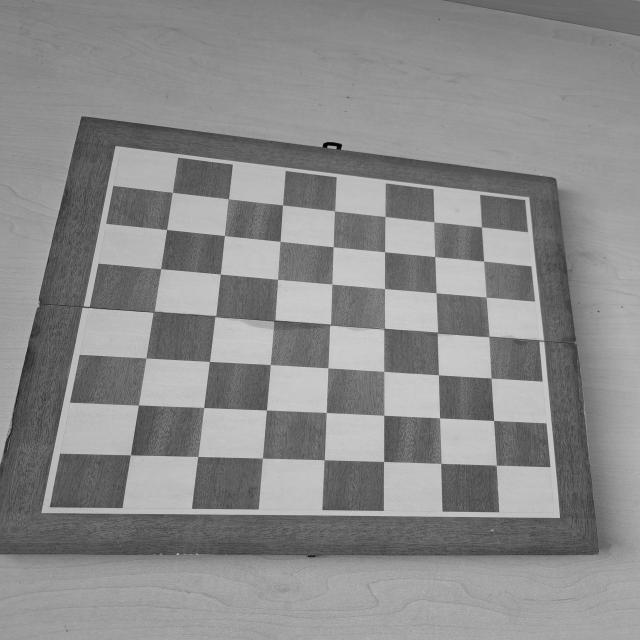chess-table-corners: (70, 282, 142, 324), (36, 496, 64, 516), (540, 502, 567, 522), (514, 192, 536, 208), (110, 144, 132, 158)
